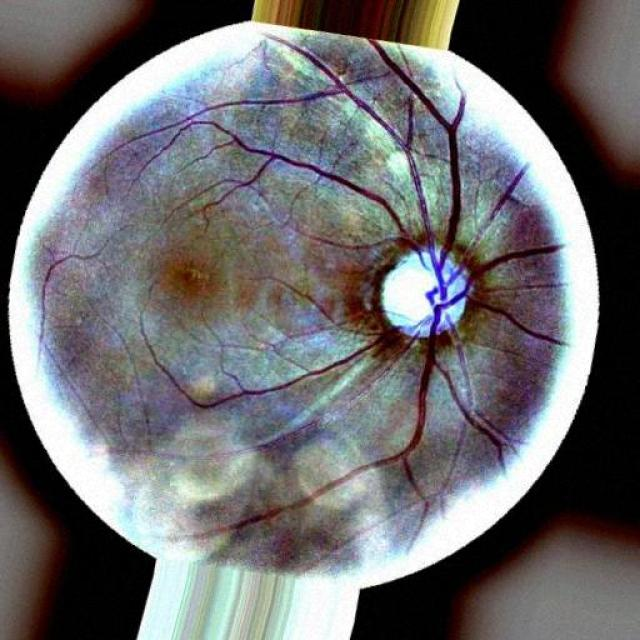Macula: (137, 247, 242, 330)
Nerves: (147, 44, 560, 544)
Optic Disk: (338, 231, 498, 376)
